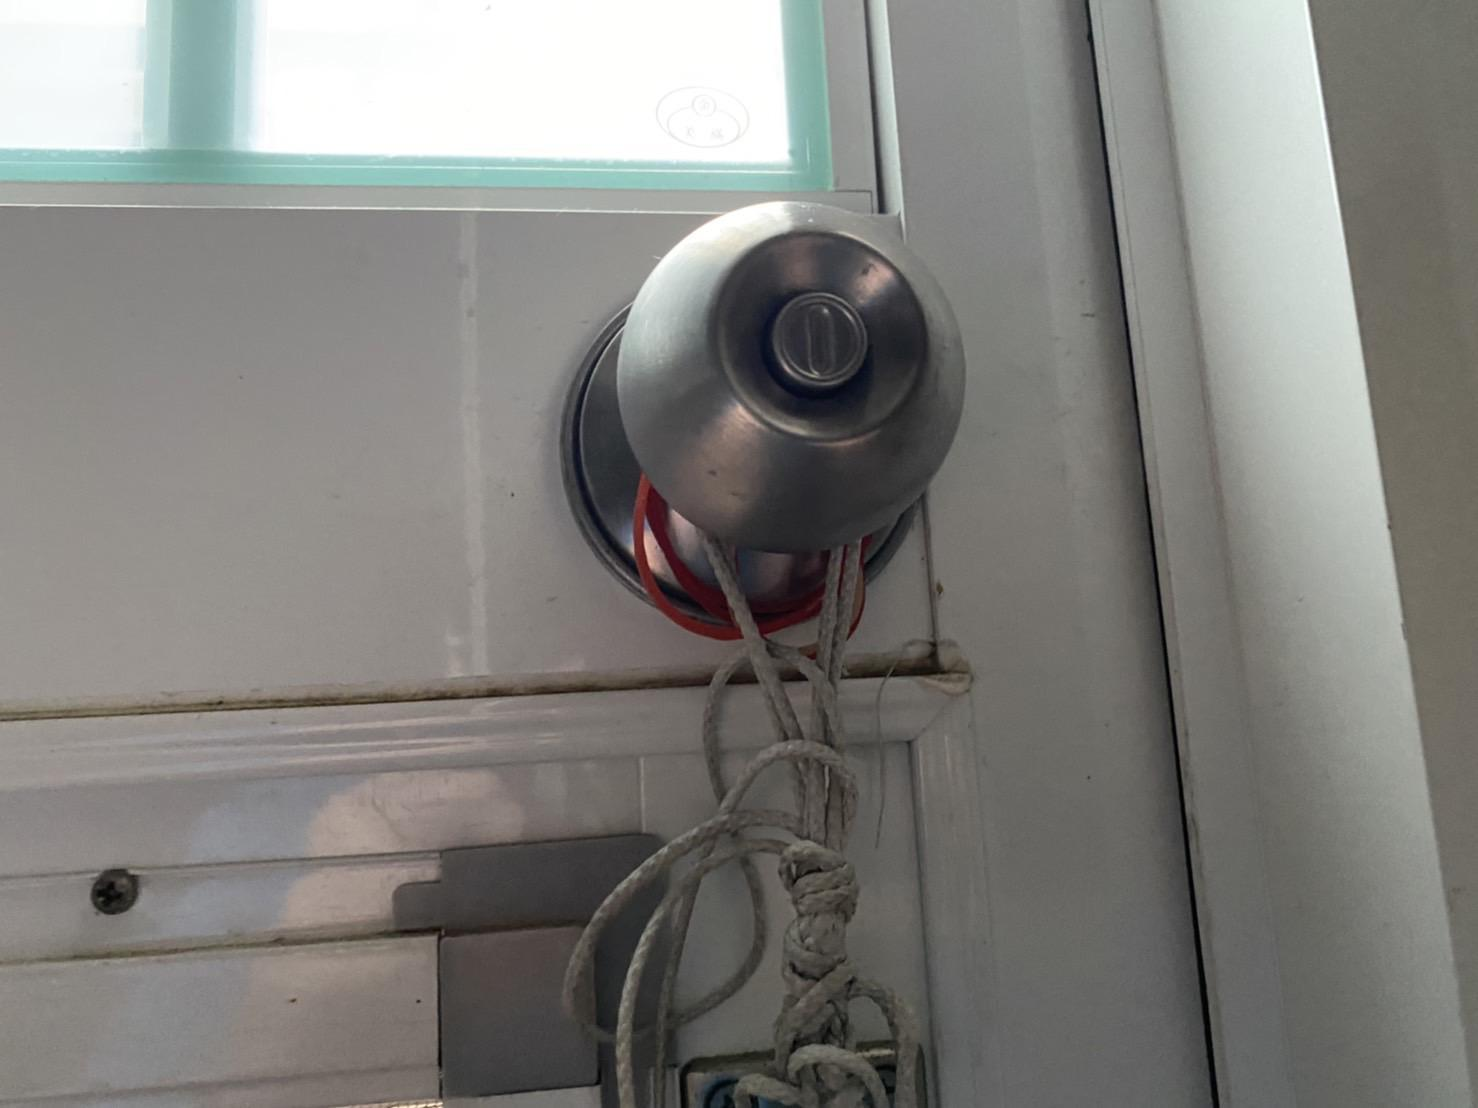doorhandle: (556, 200, 992, 588)
